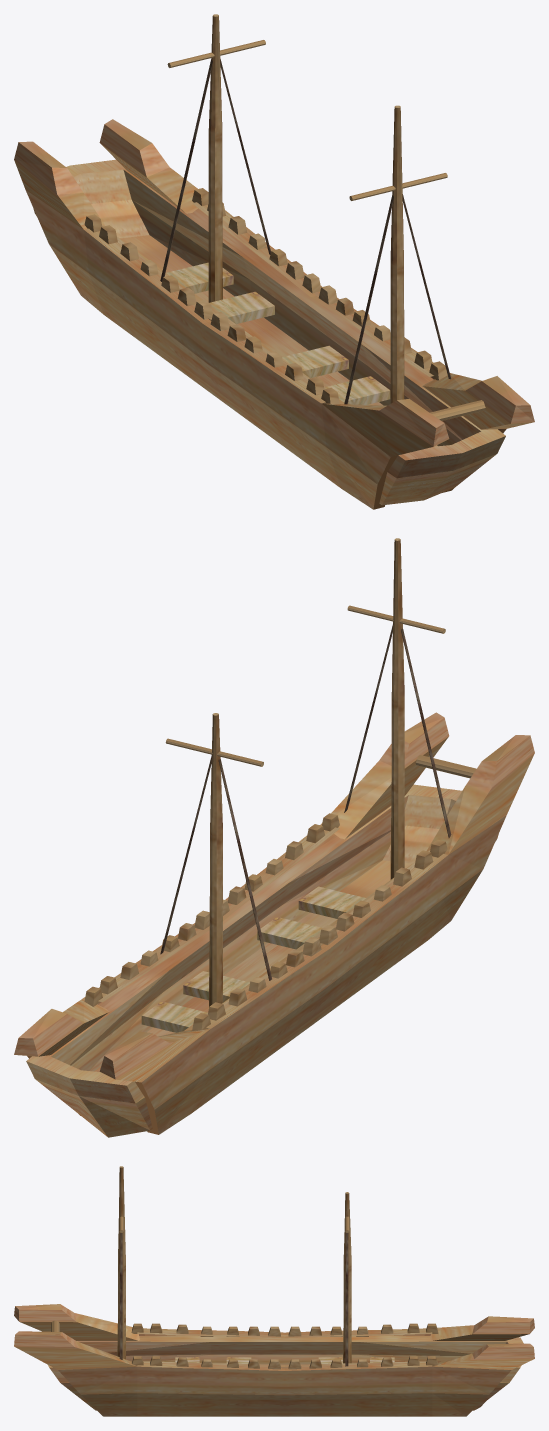
The model's file is yayoi_ship_bireme.dae.
The picture shows the model from 3 angles, top to bottom: view 1: azimuth 30°, elevation 25°; view 2: azimuth 150°, elevation 25°; view 3: azimuth 270°, elevation 25°; orthographic projection. The views are drawn at different scales.
Parts seen in each view (by area): view 1: Cube; view 2: Cube; view 3: Cube.
Boxes of the visible parts, x1=… form: Cube: x1=14, y1=14, x2=534, y2=509; Cube: x1=14, y1=538, x2=534, y2=1137; Cube: x1=14, y1=1166, x2=534, y2=1416.
Bounding box in the file's own units: 5.08 × 29.03 × 14.82.
